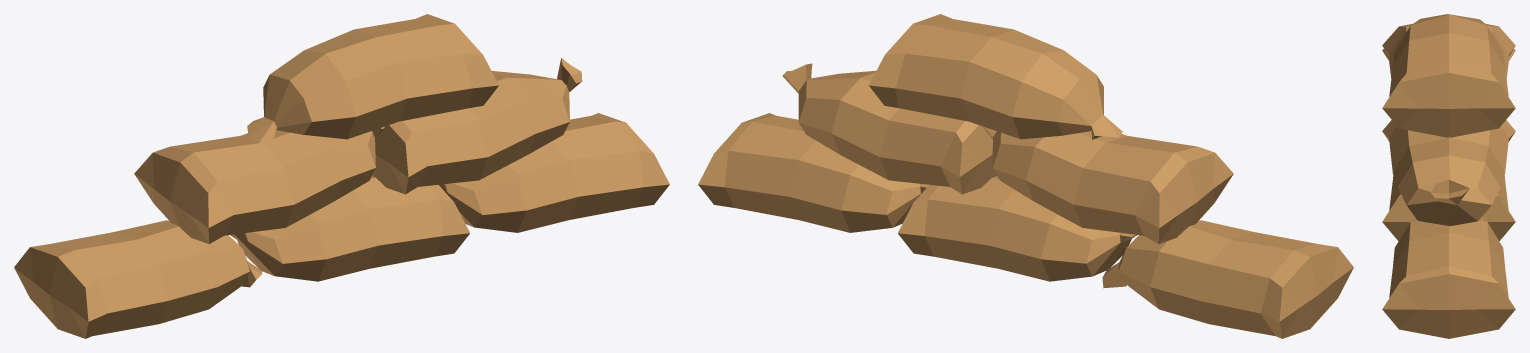
Rendered from sandbags-straight.glb.
3 renders of one model, left to right at view 1: azimuth 30°, elevation 25°; view 2: azimuth 150°, elevation 25°; view 3: azimuth 270°, elevation 25°, orthographic. The views are drawn at different scales.
Visible parts, largest first — view 1: sandbags-straight; view 2: sandbags-straight; view 3: sandbags-straight.
Boxes of the visible parts, x1,y1,x2,y2 form: sandbags-straight: (14,14,669,338); sandbags-straight: (698,14,1353,338); sandbags-straight: (1382,14,1515,338).
Bounding box in the file's own units: 3.31 × 1.2 × 0.7307.
Materials: 1 (1 with a texture image).
